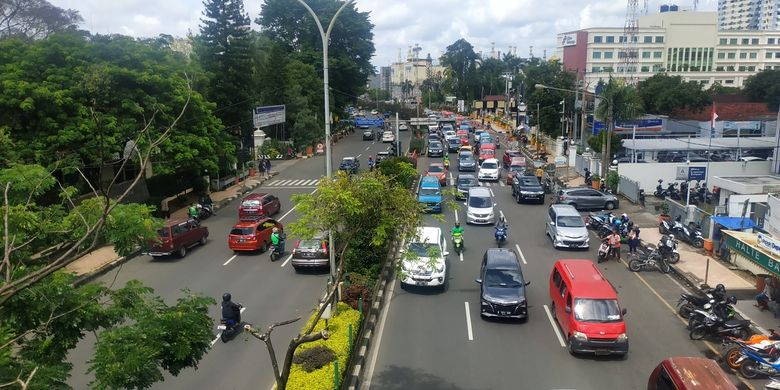car: (552, 257, 629, 359), (478, 250, 527, 324), (401, 225, 447, 294), (143, 218, 209, 261), (229, 214, 283, 257), (293, 226, 341, 270), (548, 205, 588, 253), (557, 188, 620, 214), (238, 195, 282, 223), (466, 188, 496, 227), (513, 171, 544, 204), (417, 176, 442, 213), (478, 159, 502, 183), (508, 157, 528, 185), (456, 176, 478, 201), (503, 150, 525, 170), (458, 151, 477, 173), (426, 163, 445, 184), (340, 157, 360, 175), (480, 145, 495, 166), (376, 151, 392, 169), (427, 141, 442, 158), (383, 131, 395, 143), (363, 130, 373, 141)
motorbike: (219, 293, 246, 344), (598, 230, 620, 265), (452, 222, 466, 255), (271, 228, 284, 263), (493, 218, 508, 246), (198, 194, 215, 217), (186, 202, 202, 223)
